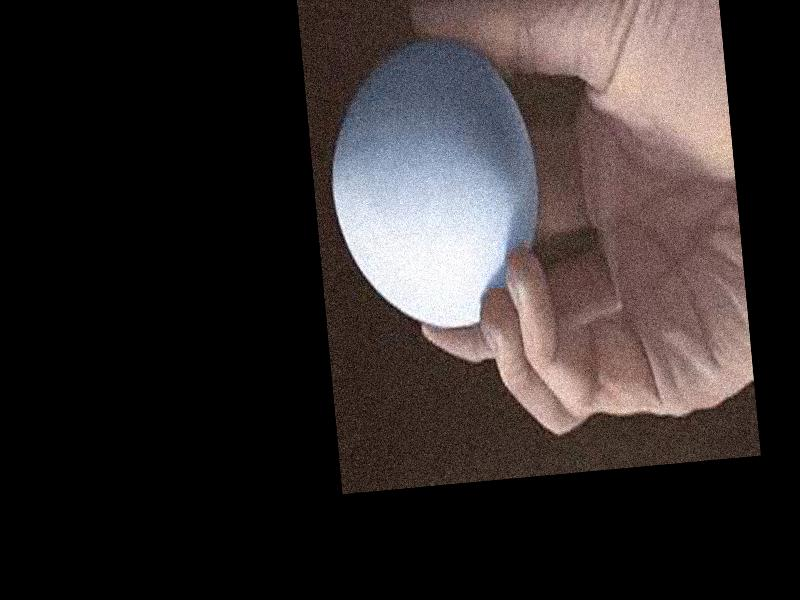Eggs: (318, 34, 547, 340)
